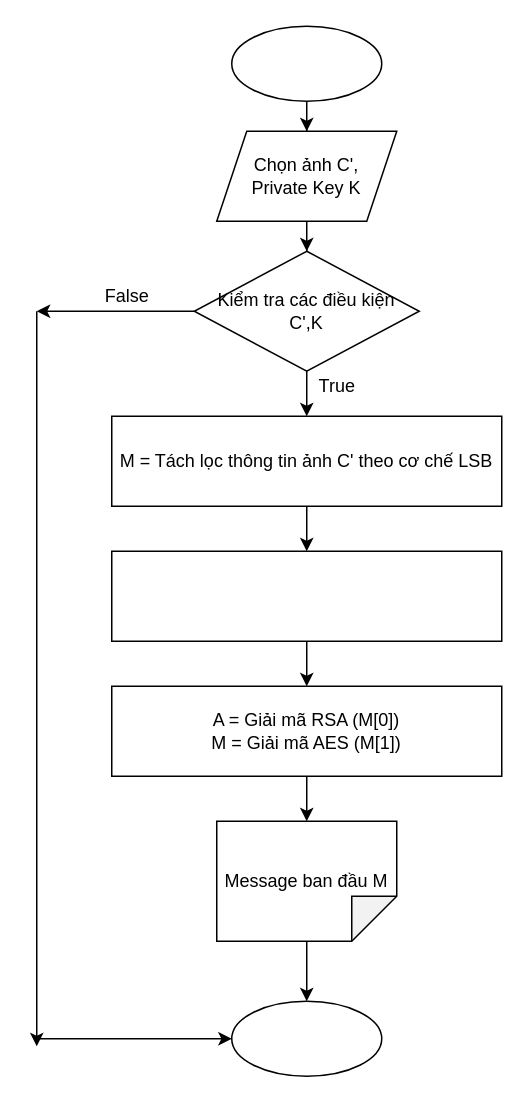
Image size: 528x1103. Some labels were removed from this diagram. The centre of each missing label's shape, as x and y in pixels:
Bắt đầu: point (306, 63)
Kết thúc: point (306, 1038)
M = Split(M, '#'): point (306, 595)
